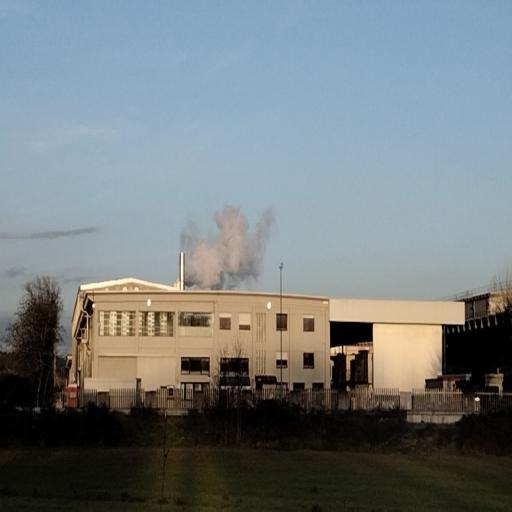leakage: (179, 188, 280, 300)
